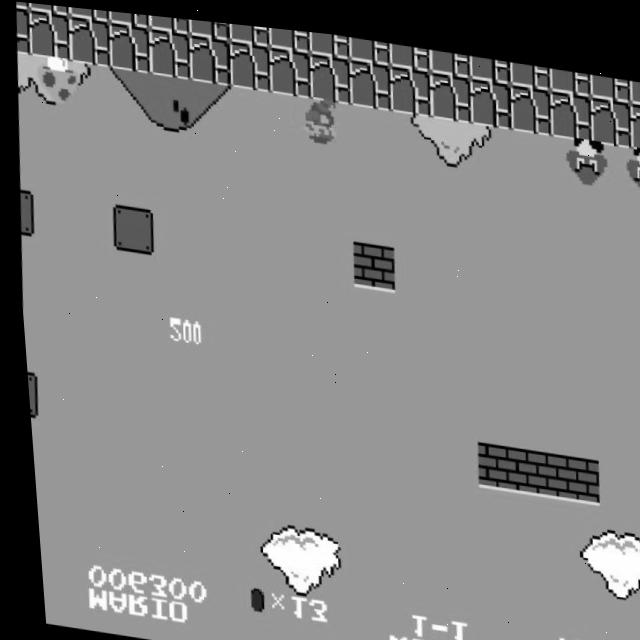1- brick_block: (469, 432, 515, 483), (509, 438, 555, 488), (549, 443, 595, 493), (348, 234, 393, 285)
11- little_mario: (291, 87, 340, 142)
12- mushroom: (31, 52, 80, 107)
17- undestructible_block: (26, 9, 72, 61), (66, 14, 112, 66), (186, 30, 232, 82), (307, 46, 353, 98), (507, 73, 553, 125), (547, 78, 593, 130), (106, 20, 152, 71), (146, 25, 192, 76), (347, 52, 393, 103), (387, 57, 433, 108), (467, 68, 513, 119), (587, 84, 633, 135), (267, 41, 312, 93), (227, 36, 272, 87), (427, 63, 472, 114), (548, 56, 592, 85), (588, 61, 632, 90), (348, 29, 391, 58), (428, 40, 471, 69), (508, 51, 552, 79), (388, 35, 431, 63), (468, 46, 511, 74), (307, 25, 350, 52), (267, 22, 310, 47), (228, 19, 271, 42), (188, 15, 231, 36), (14, 7, 32, 55), (148, 12, 191, 31), (108, 9, 151, 25), (627, 89, 640, 137), (68, 6, 111, 20), (28, 2, 71, 15), (628, 67, 640, 92), (16, 1, 30, 9)
3- empty_block: (107, 202, 153, 253), (15, 189, 33, 237), (22, 372, 33, 419)
8- goomba: (560, 123, 608, 178), (620, 130, 640, 183)
